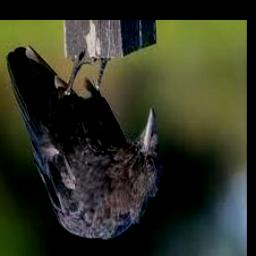Crow: (6, 44, 161, 240)
